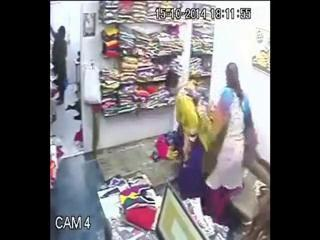shoplifting: (198, 77, 250, 198)
